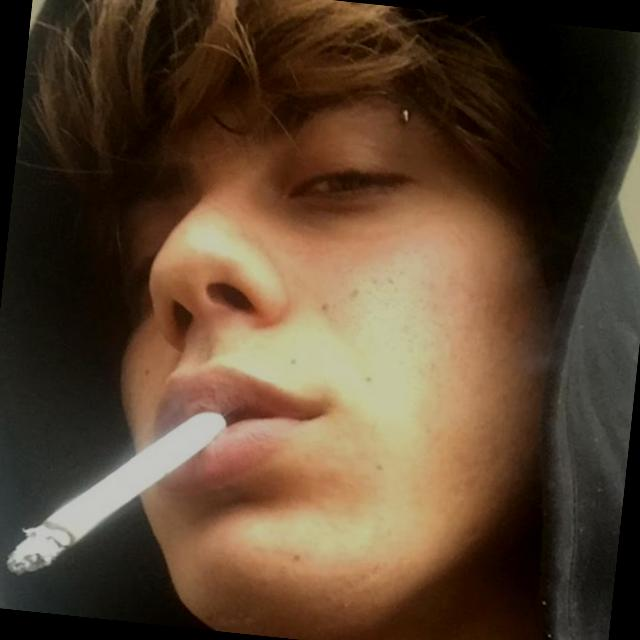smoke: (0, 386, 231, 601)
